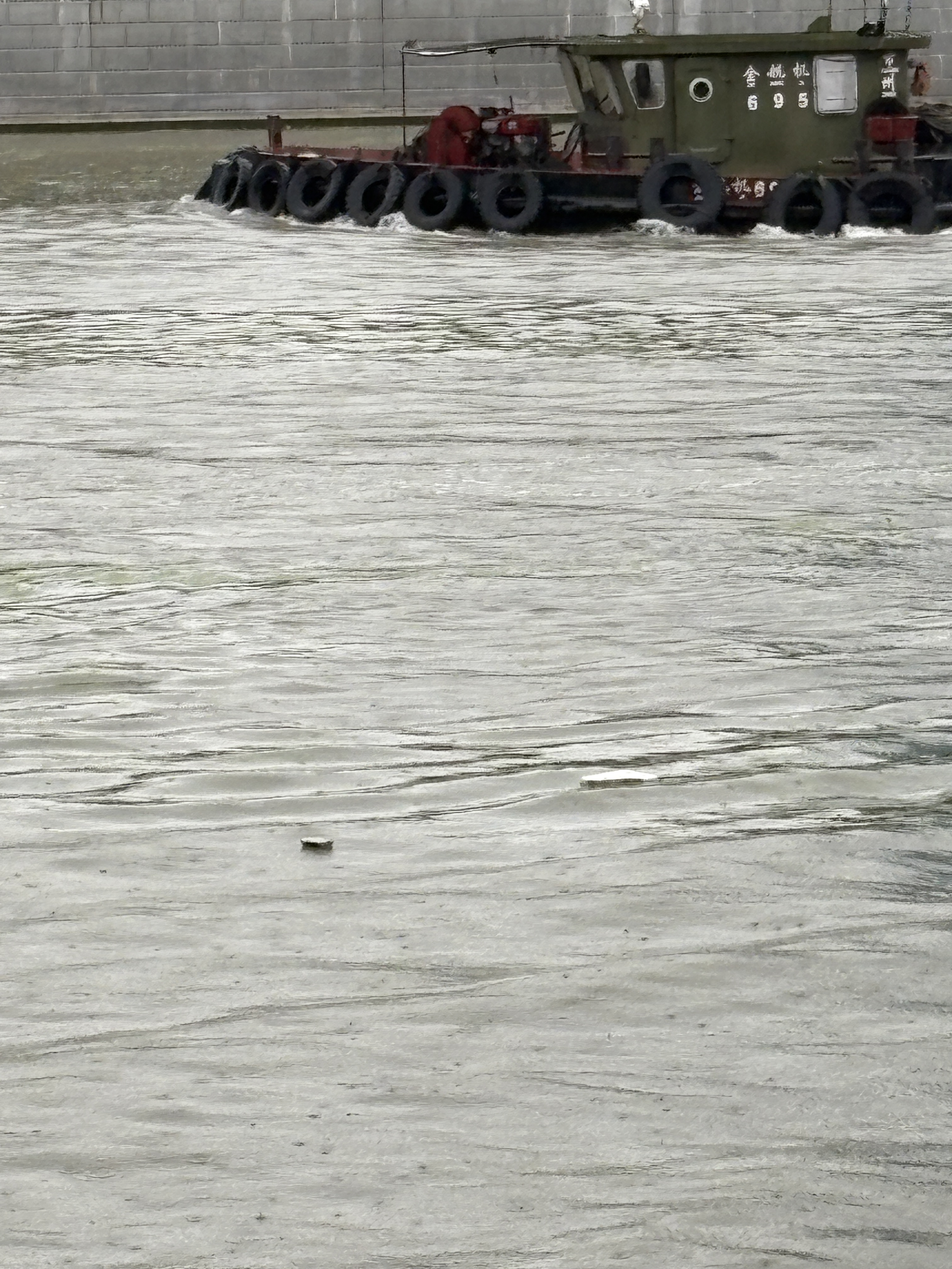Plastic wastes: (574, 401, 588, 489), (625, 822, 640, 866)
